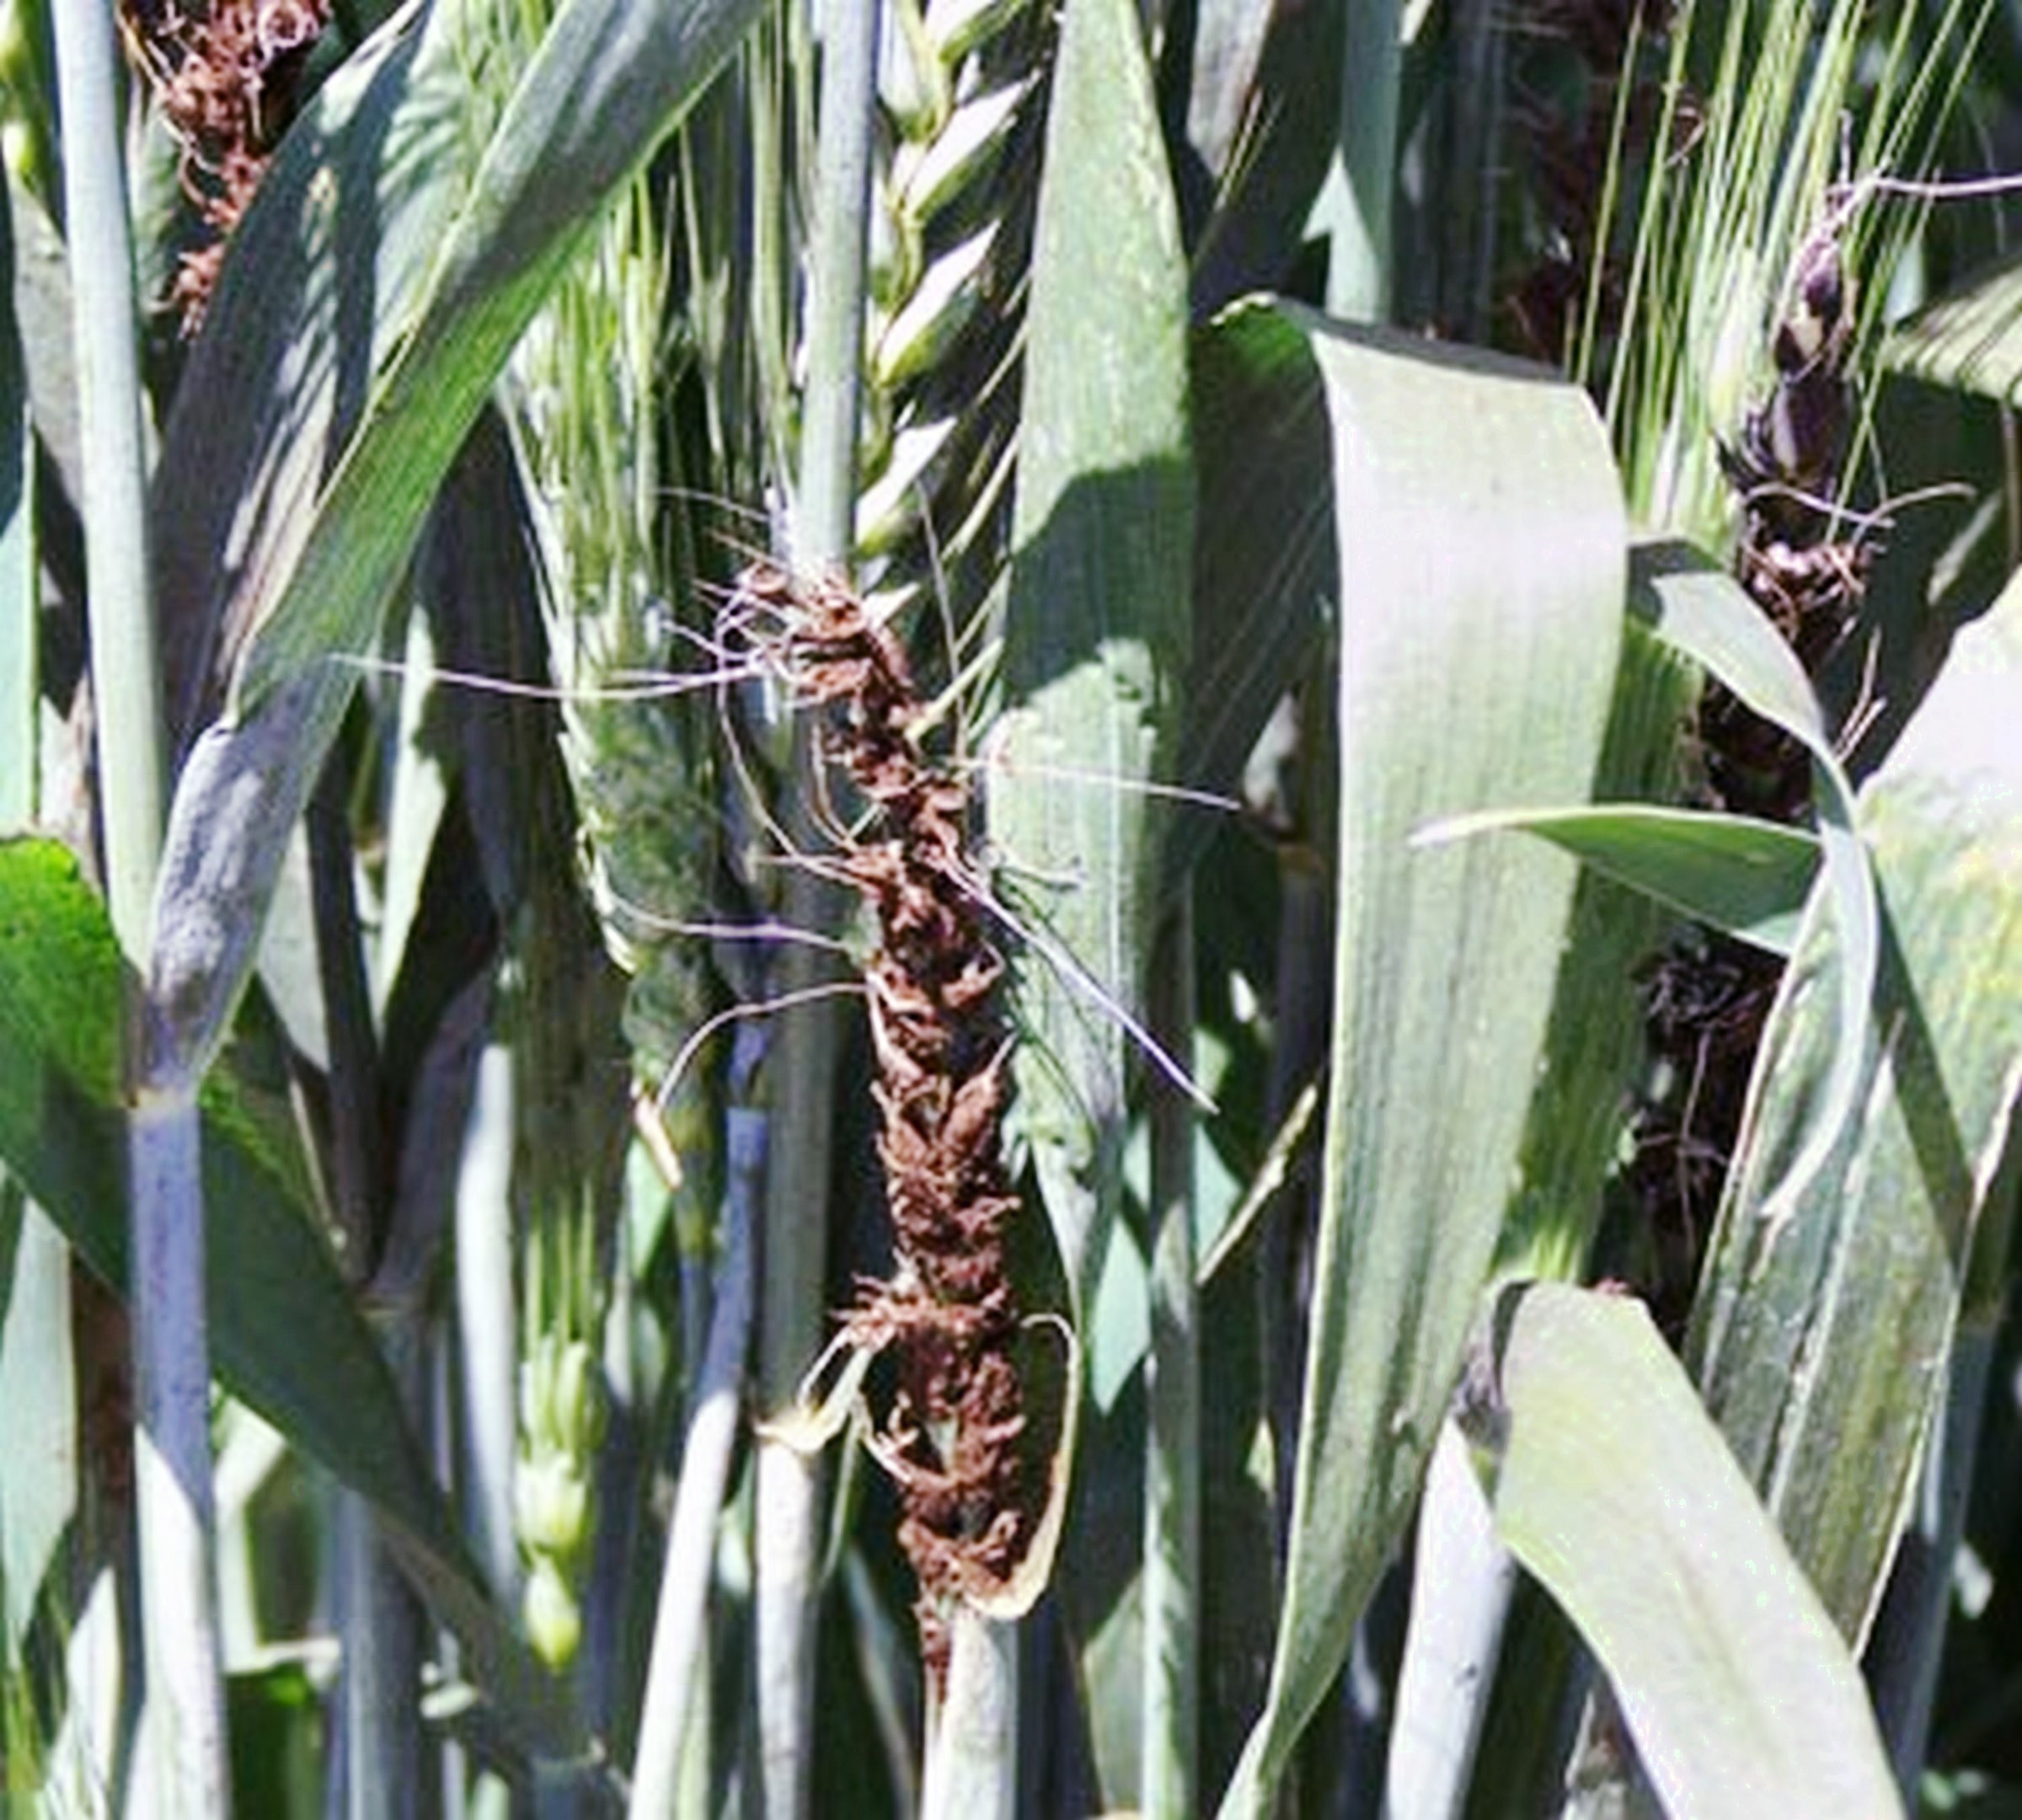Wheat Loose Smut: (738, 589, 1103, 1595)
